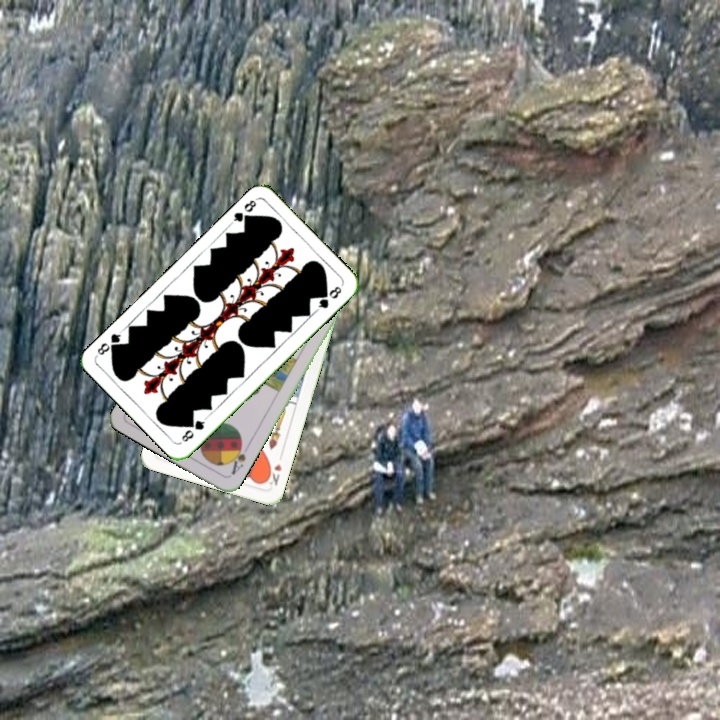G8: (227, 195, 259, 227), (178, 414, 209, 445)
HK: (262, 460, 284, 489)
SA: (225, 438, 248, 478)
